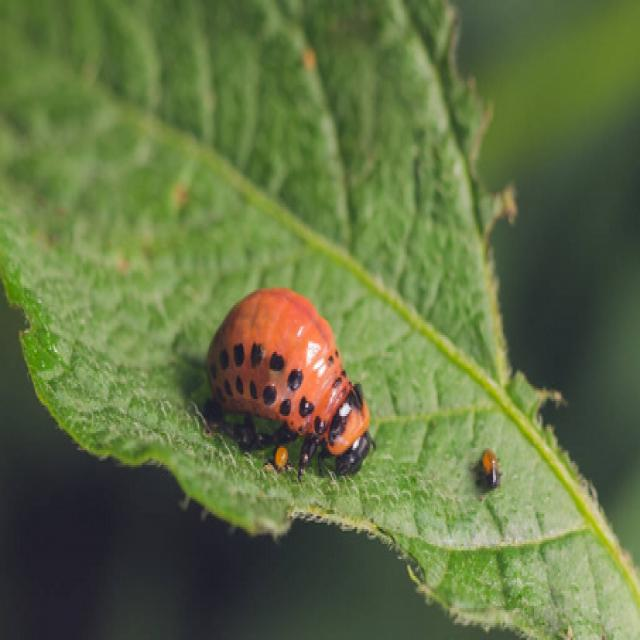ShuCaiHuaBanChong-Larva-: (201, 286, 377, 485)
